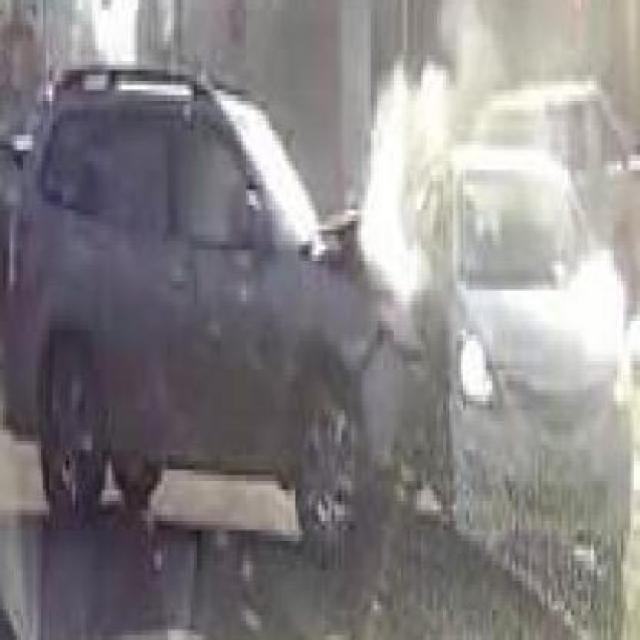accident: (0, 100, 581, 534)
